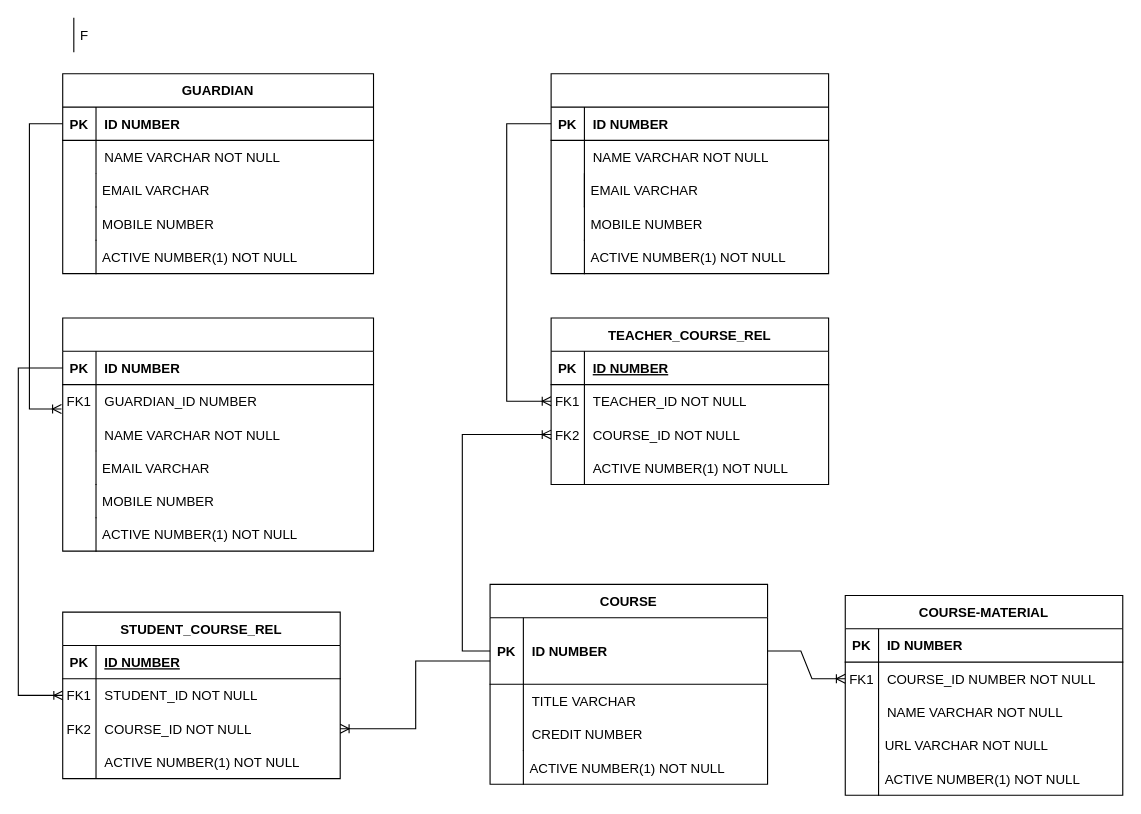
Image size: 1141x814. Some labels were removed from this diagram. The shapes that lost their labels are listed below. From the top down, each one's box as (x1, y1, x2, y2) in pixels, then its label:
(550, 73, 829, 274): TEACHER
(62, 317, 374, 551): STUDENT
